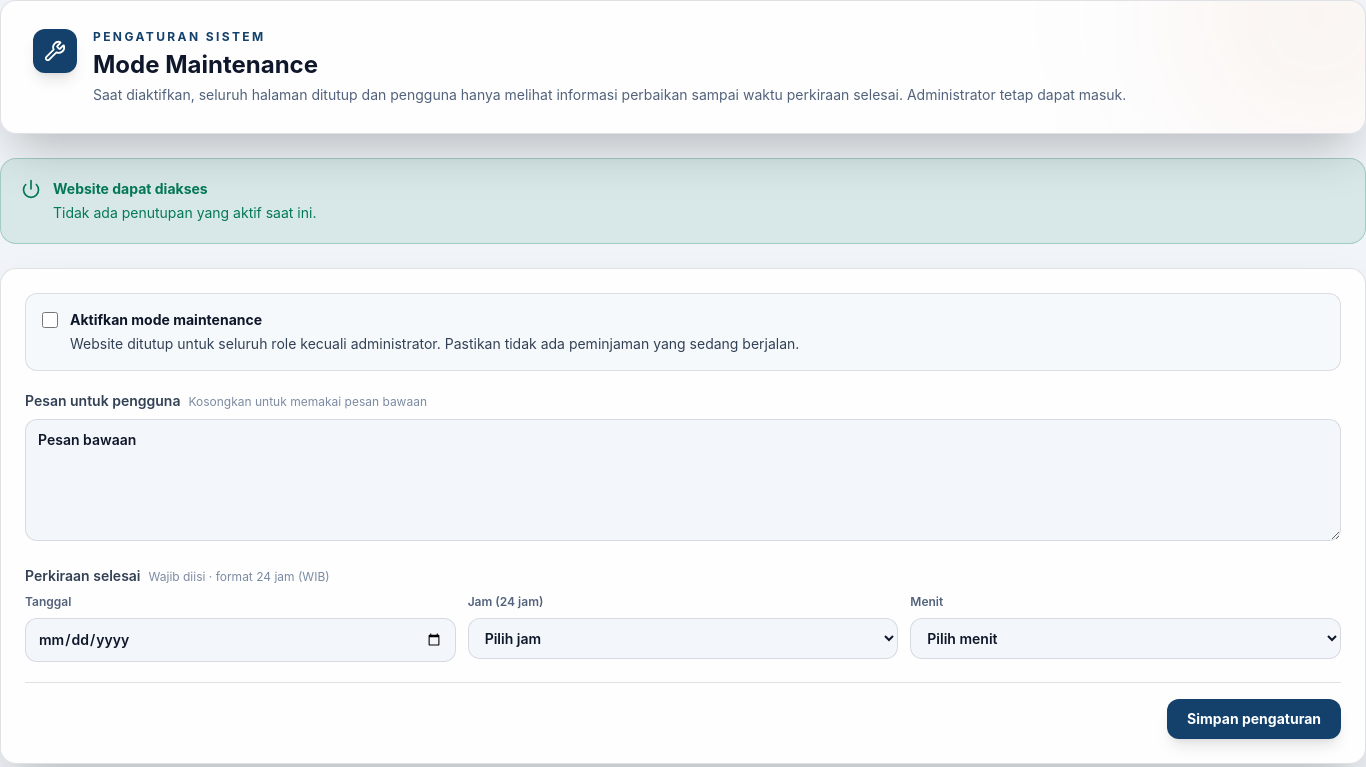
ManageMaintenancePage › refuses to submit a deadline that has already passed
Click the checkbox at (50, 320), box [42, 312, 58, 328]
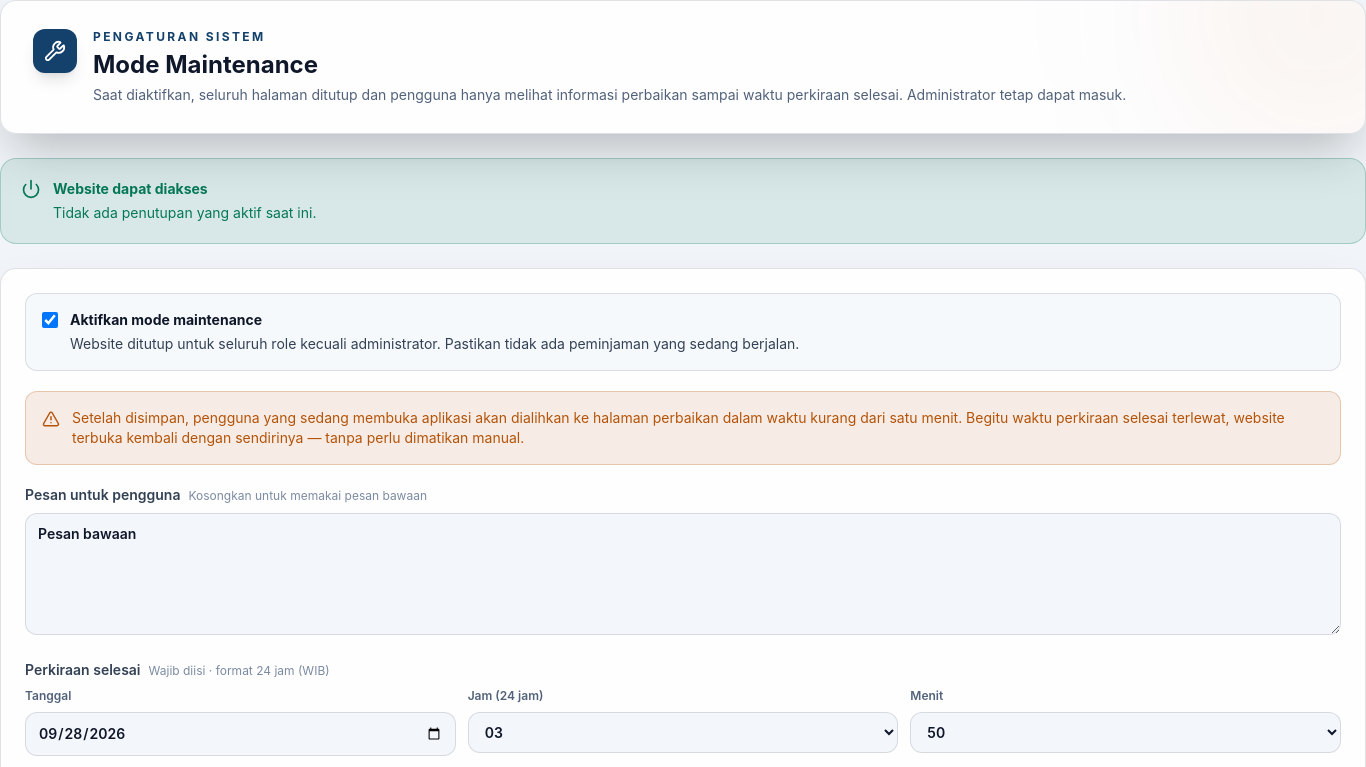
Type "2020-01-01" into the date field labelled "Tanggal" at (240, 734), box [25, 712, 456, 756]
(page scrolled)
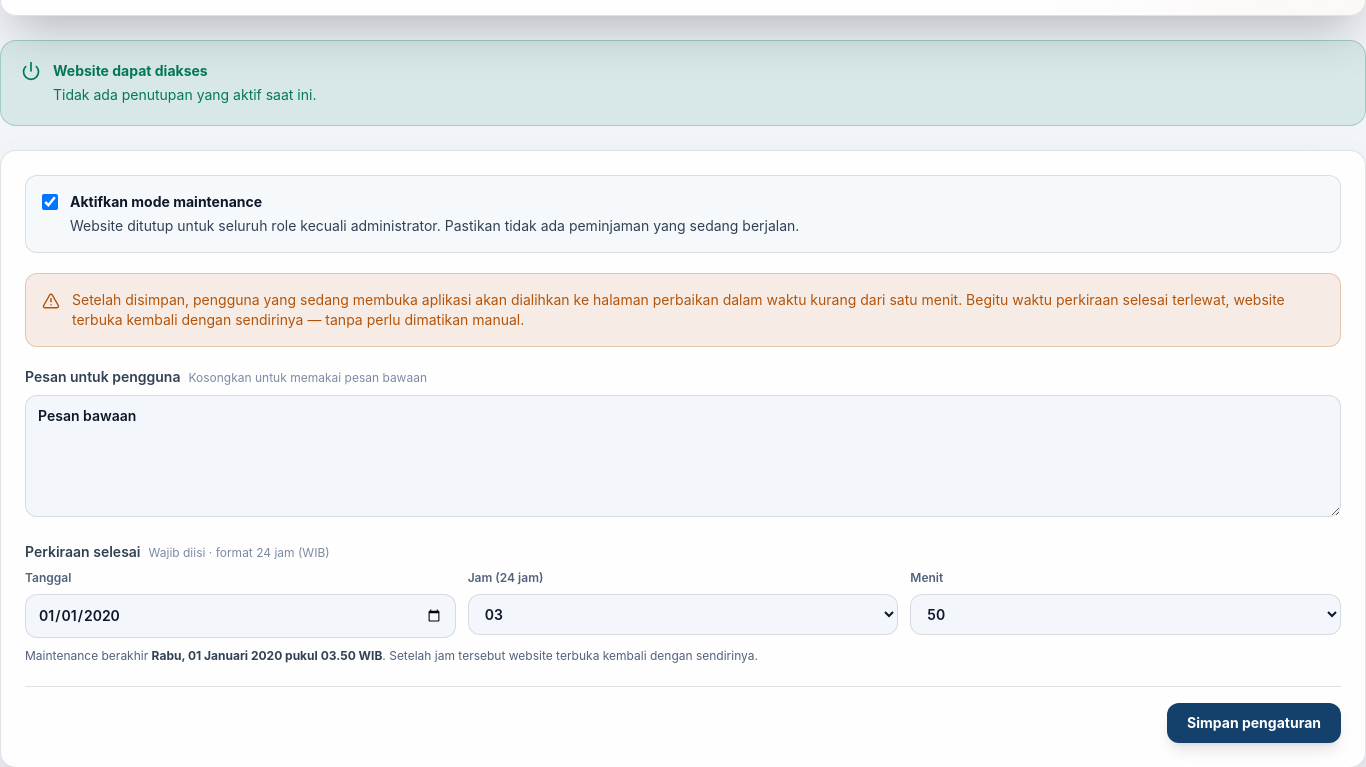
Click the button "Simpan pengaturan" at (1254, 723), box [1167, 703, 1341, 743]
(page scrolled)
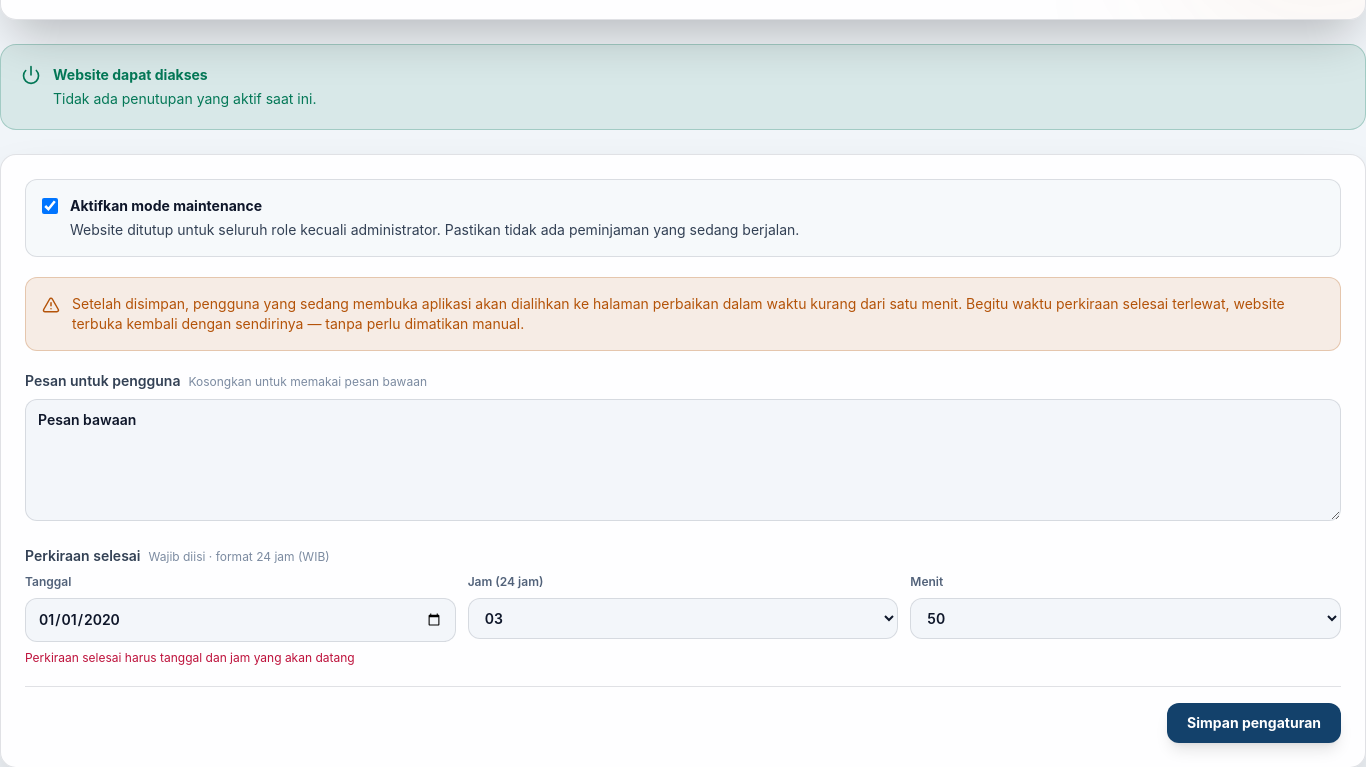
Now the text "Perkiraan selesai harus tanggal dan jam yang akan datang" is shown, box [25, 650, 355, 665]
